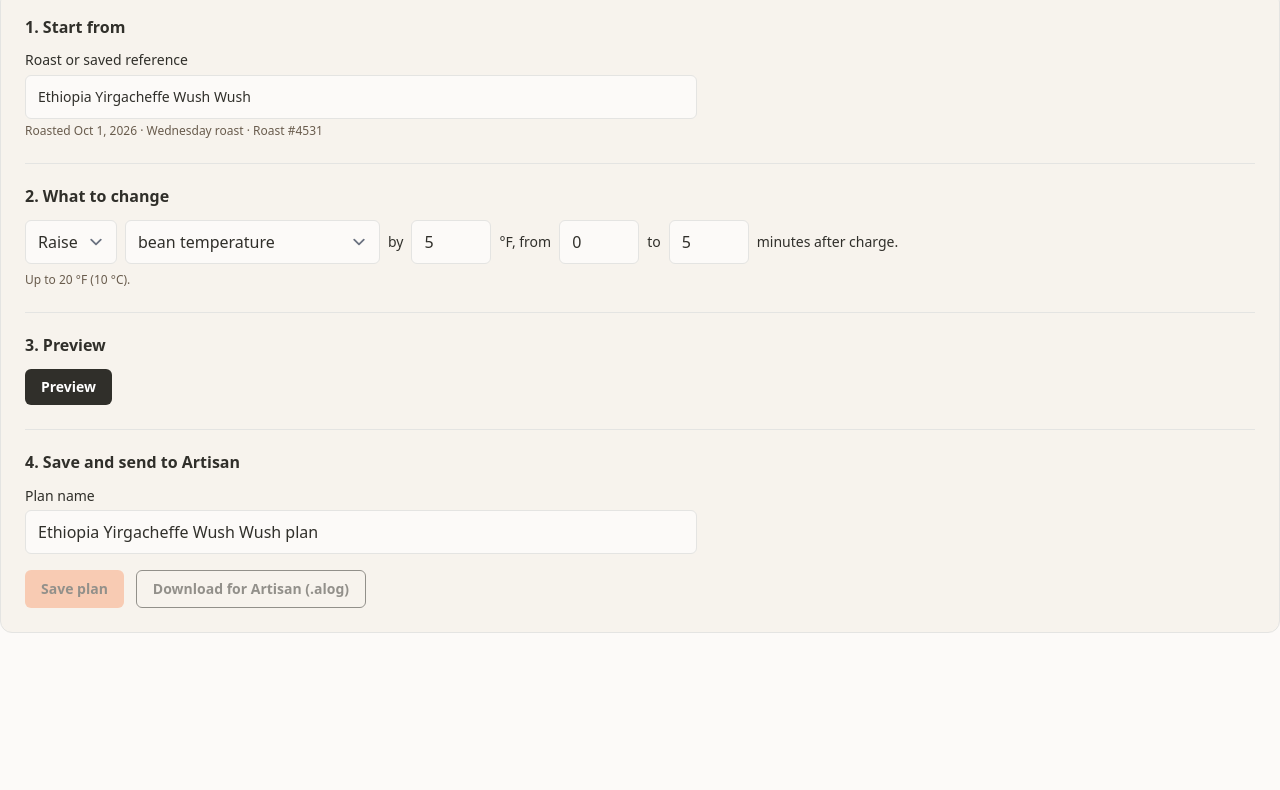
a roast that cannot be planned from › gives the reason when the file is gone by the time the plan is saved
Click the button "Preview" at (69,387), box [25,369,112,405]
(page scrolled)
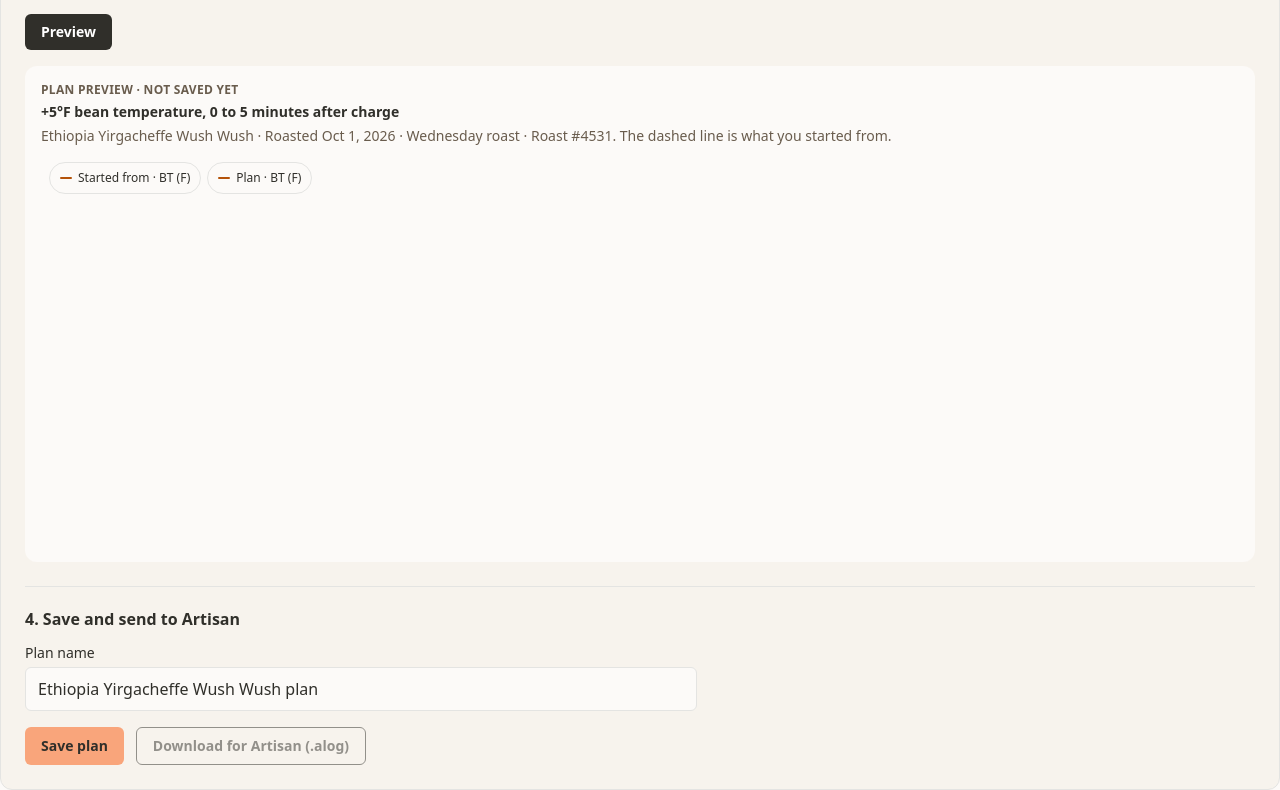
Click the button "Save plan" at (74,746), box [25,727,124,765]
(page scrolled)
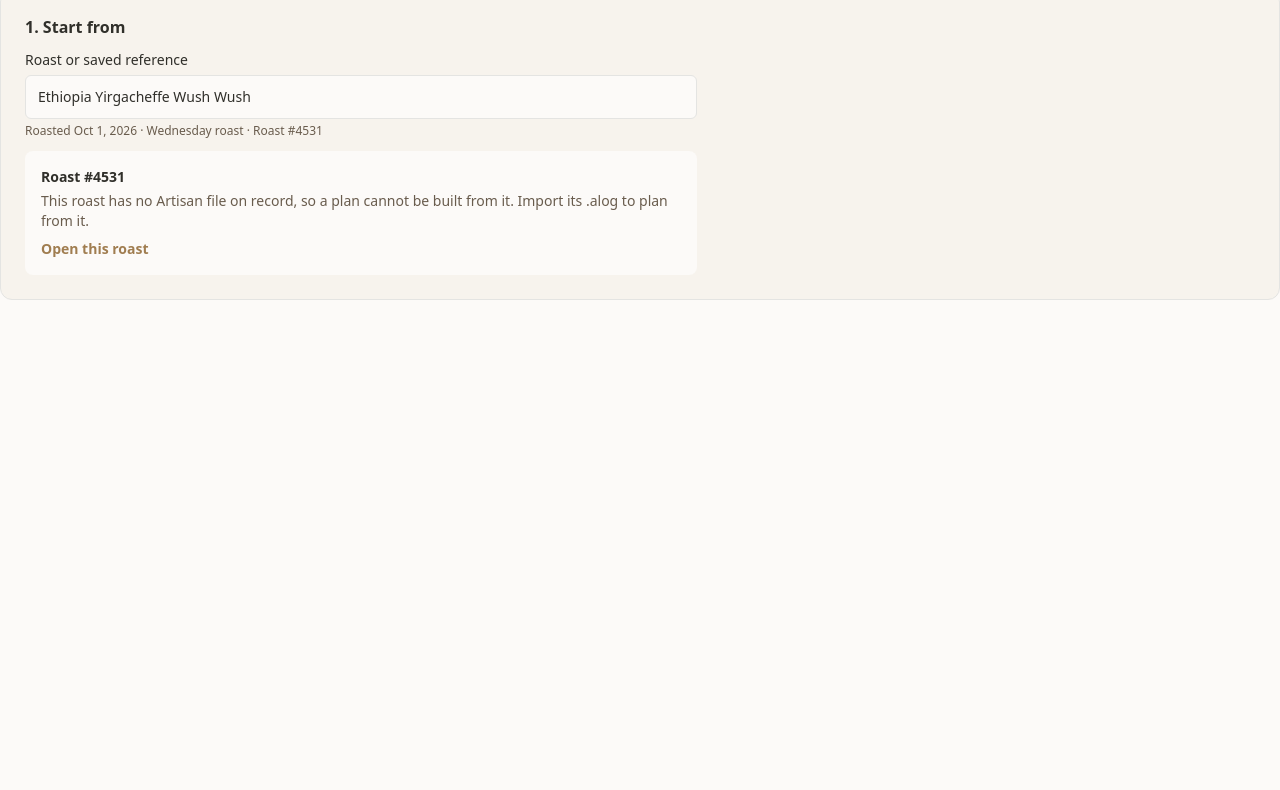
Expected: the message shows "This roast has no Artisan file on record", [41,191,668,230]
